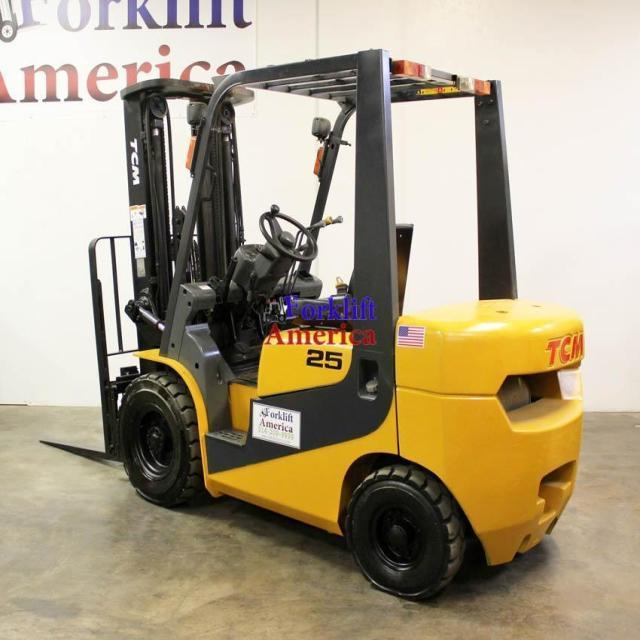forklift: (68, 35, 600, 619)
